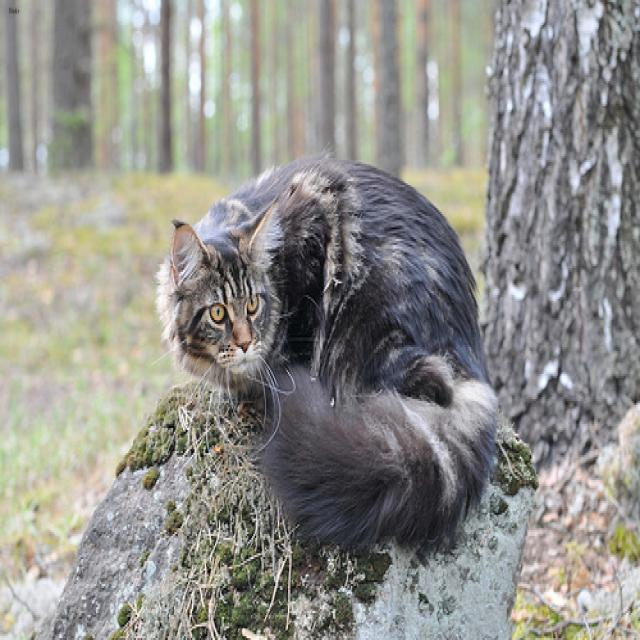Maine_Coon: (167, 193, 292, 386)
